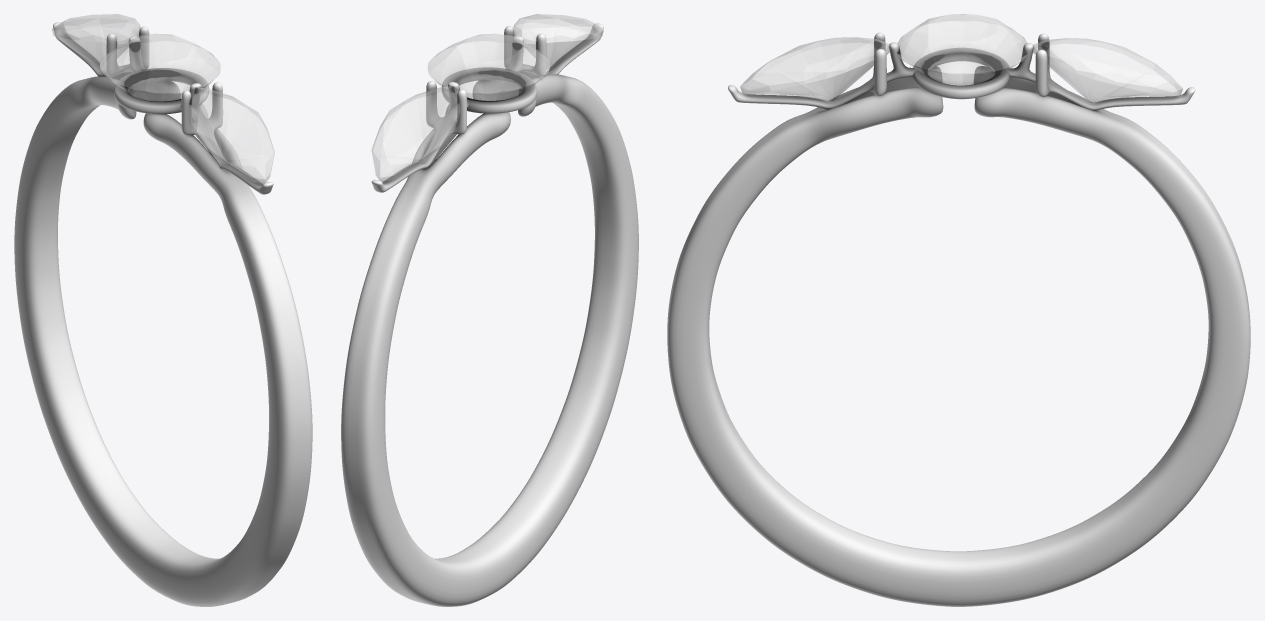
3 renders of one model, left to right at view 1: azimuth 30°, elevation 25°; view 2: azimuth 150°, elevation 25°; view 3: azimuth 270°, elevation 25°, orthographic. The views are drawn at different scales.
Parts seen in each view (by area): view 1: Ring, DiamondB, DiamondC, Diamond; view 2: Ring, DiamondB, Diamond, DiamondC; view 3: Ring, DiamondB, Diamond, DiamondC.
Part boxes in pixels (<box>): Ring: <box>14,22,312,606</box>; DiamondB: <box>100,33,220,101</box>; DiamondC: <box>188,87,274,183</box>; Diamond: <box>52,14,140,70</box>; Ring: <box>341,23,638,606</box>; DiamondB: <box>427,33,550,101</box>; Diamond: <box>371,86,460,182</box>; DiamondC: <box>513,14,603,71</box>; Ring: <box>667,32,1250,606</box>; DiamondB: <box>897,14,1027,85</box>; Diamond: <box>1033,38,1182,102</box>; DiamondC: <box>740,37,889,101</box>.
Size of the model in its own units: 0.438 by 2.2 by 2.03.
2 materials, 2 textured.
